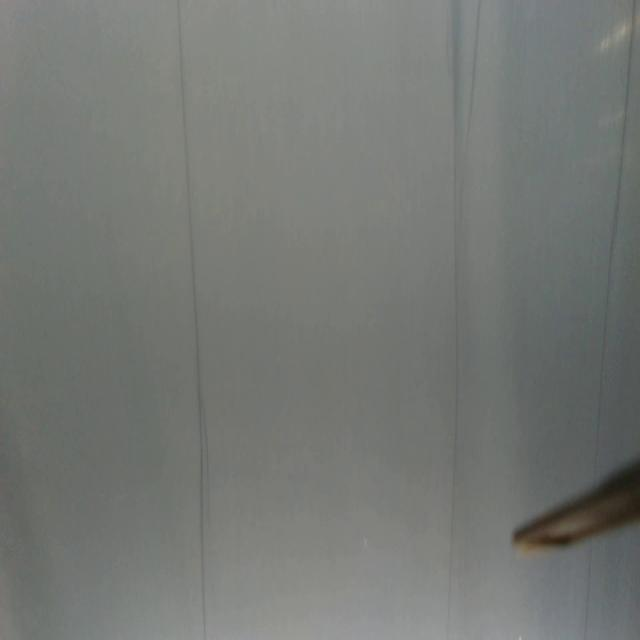crease: (594, 1, 636, 462), (177, 0, 206, 640), (446, 1, 460, 639), (467, 0, 483, 127), (582, 539, 593, 640)
